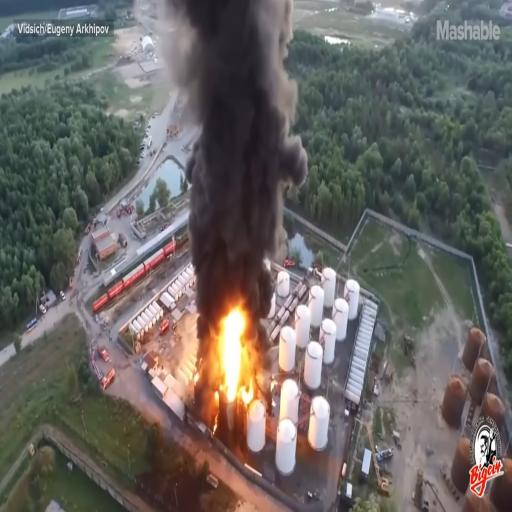fire: (220, 316, 246, 410)
smoke: (188, 0, 291, 154), (188, 135, 270, 304)
